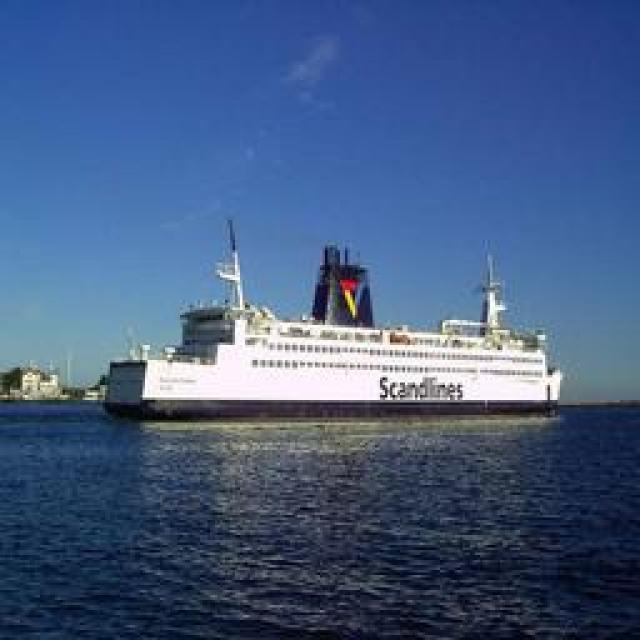CIV_Ship: (98, 214, 578, 418)
